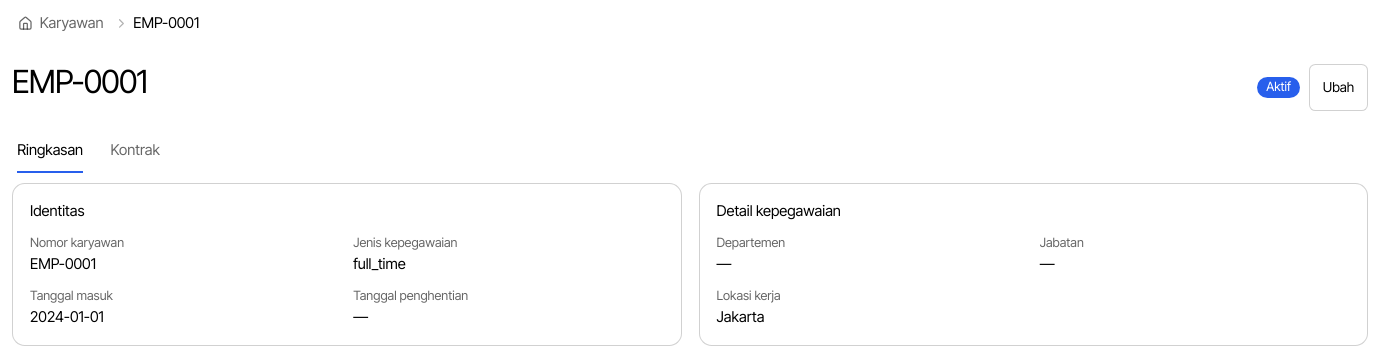
it: EmployeeDetail › switches to contracts tab
Expected: the heading "EMP-0001" is shown, [12, 64, 147, 100]
Click the tab "Kontrak" at (135, 151), box [110, 128, 161, 174]
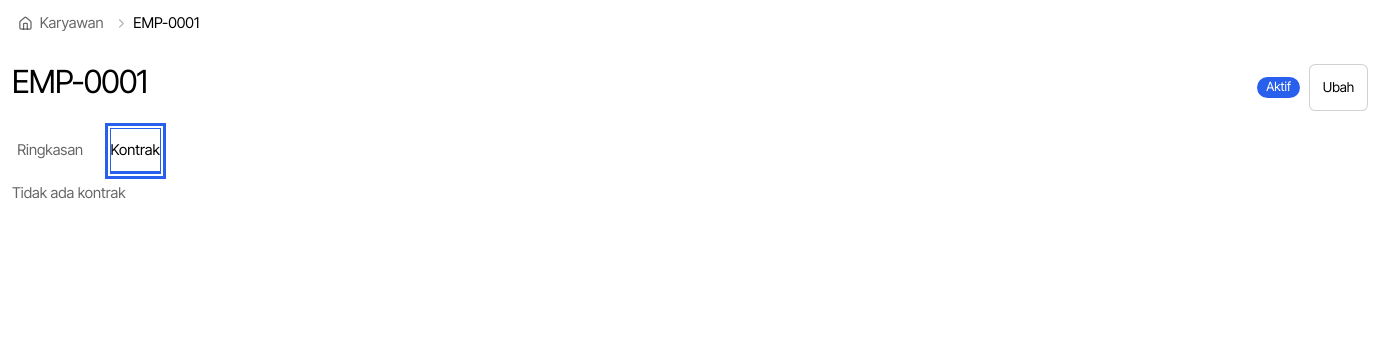
Result: the text "Tidak ada kontrak" is shown at [12, 184, 126, 202]
